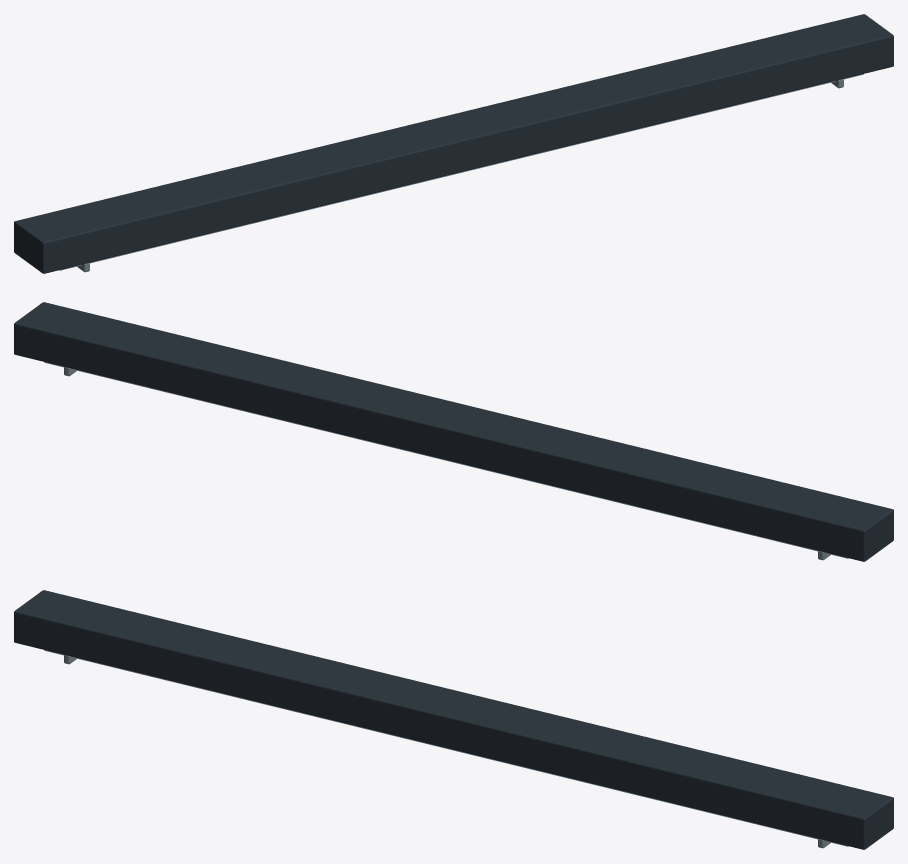
The model's file is SM_Lab_Luminaire.fbx.
3 views of the same model, one above another, from view 1: azimuth 30°, elevation 25°; view 2: azimuth 150°, elevation 25°; view 3: azimuth 330°, elevation 25° (orthographic).
Visible parts, largest first — view 1: SM_Lab_Luminaire; view 2: SM_Lab_Luminaire; view 3: SM_Lab_Luminaire.
Boxes of the visible parts, x1=… form: SM_Lab_Luminaire: x1=14, y1=14, x2=893, y2=273; SM_Lab_Luminaire: x1=14, y1=302, x2=893, y2=561; SM_Lab_Luminaire: x1=14, y1=590, x2=893, y2=849.
Size of the model in its own units: 280 by 17 by 14.
